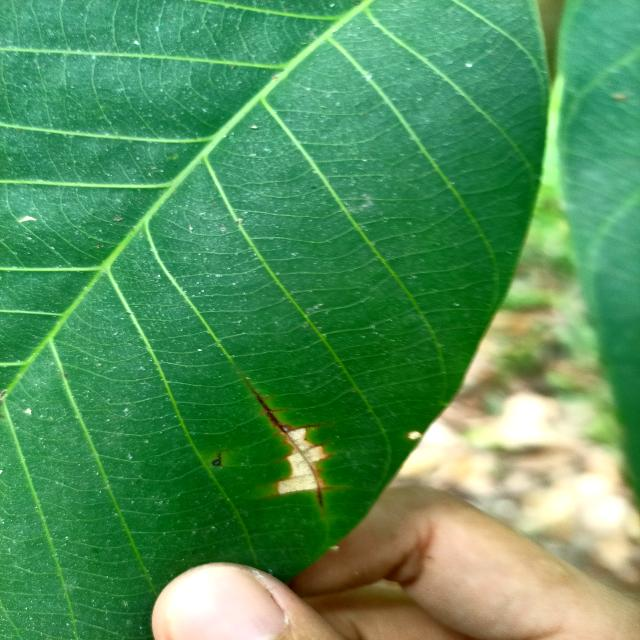Corynespora: (247, 384, 326, 436)
